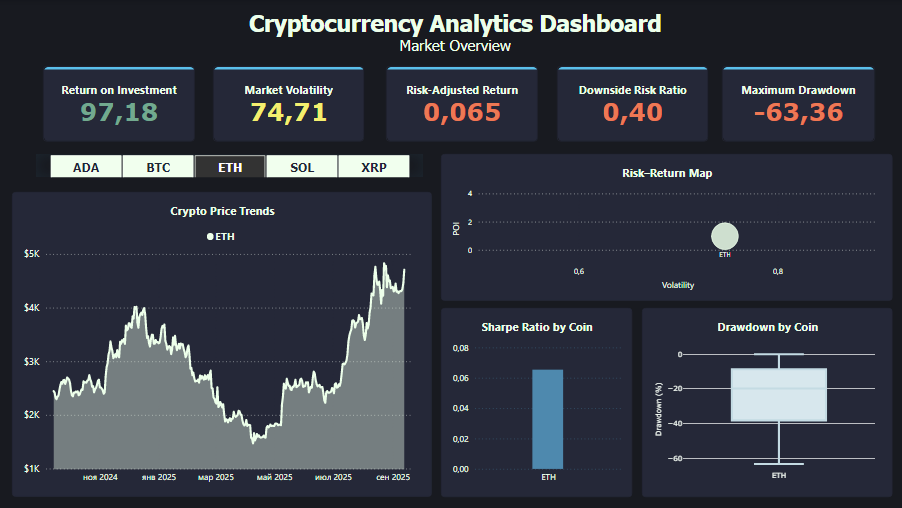

The dashboard page shown, as its layout file describes it:
{"tool":"powerbi","page":{"name":"Market Overview","canvas":[1280,720],"ordinal":0},"visuals":[{"type":"lineChart","title":"Crypto Price Trends","fields":{"Y":["Sum(market_daily.price_usd)"],"Series":["market_daily.symbol"],"Category":["market_daily.date"]},"box":[18.1,272.3,594.8,432.3],"z":0},{"type":"cardVisual","fields":{"Data":["market_daily.ROI %"]},"box":[61.9,94.2,215.5,107.1],"z":1000},{"type":"cardVisual","fields":{"Data":["market_daily.Downside Risk Ratio"]},"box":[791,94.2,214.2,107.1],"z":2000},{"type":"cardVisual","fields":{"Data":["market_daily.Maximum Drawdown"]},"box":[1024.5,94.2,216.8,107.1],"z":3000},{"type":"cardVisual","fields":{"Data":["market_daily.Risk-Adjusted Return"]},"box":[548.4,94.2,215.5,107.1],"z":4000},{"type":"scatterChart","title":"Risk–Return Map","fields":{"X":["market_daily.Volatility %"],"Y":["market_daily.ROI %"],"Size":["market_daily.Avg Volume USD"],"Series":["market_daily.symbol"]},"box":[625.8,218.1,640,207.7],"z":5000},{"type":"columnChart","title":"Sharpe Ratio by Coin","fields":{"Category":["market_daily.symbol"],"Y":["market_daily.Sharpe"]},"box":[625.8,436.1,271,268.4],"z":6000},{"type":"cardVisual","fields":{"Data":["market_daily.Market Volatility"]},"box":[303.2,94.2,214.2,107.1],"z":7000},{"type":"boxandwhiskerwithpoints6C29D629F202A5FF5B6B023486584FCA","title":"Drawdown by Coin","fields":{"col_0":["market_daily.symbol"],"col_3":["market_daily.drawdown_pct"]},"box":[911,436.1,354.8,268.4],"z":8000},{"type":"textbox","box":[52.9,12.9,1188.4,81.3],"z":10000},{"type":"slicer","fields":{"Values":["market_daily.symbol"]},"box":[52.4,218.3,548.5,32.6],"z":11000}]}

Visuals, with their boxes in screenshot pixels (x1, y1, x2, y2), scaled from the page's 1280x720 canvas onto the 902x508 screenshot:
"Crypto Price Trends" lineChart: 13 192 432 497
cardVisual - market_daily.ROI %: 44 66 195 142
cardVisual - market_daily.Downside Risk Ratio: 557 66 708 142
cardVisual - market_daily.Maximum Drawdown: 722 66 875 142
cardVisual - market_daily.Risk-Adjusted Return: 386 66 538 142
"Risk–Return Map" scatterChart: 441 154 892 300
"Sharpe Ratio by Coin" columnChart: 441 308 632 497
cardVisual - market_daily.Market Volatility: 214 66 365 142
"Drawdown by Coin" boxandwhiskerwithpoints6C29D629F202A5FF5B6B023486584FCA: 642 308 892 497
textbox: 37 9 875 66
slicer - market_daily.symbol: 37 154 423 177
